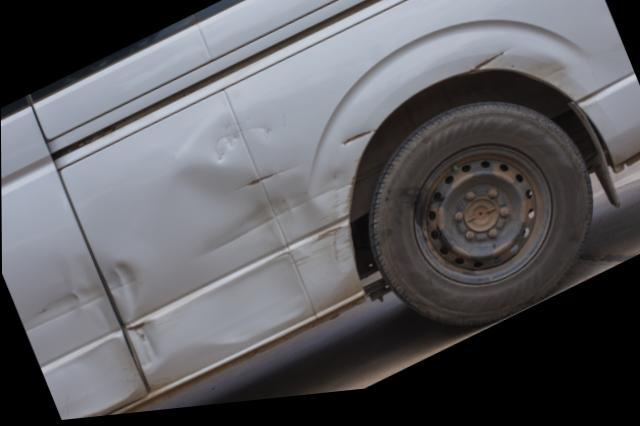dent: (97, 121, 354, 381), (4, 255, 142, 421), (530, 66, 566, 97), (469, 57, 511, 81), (342, 134, 378, 154)
